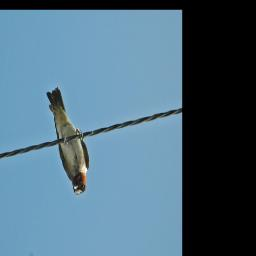Swallow: (45, 86, 90, 197)
